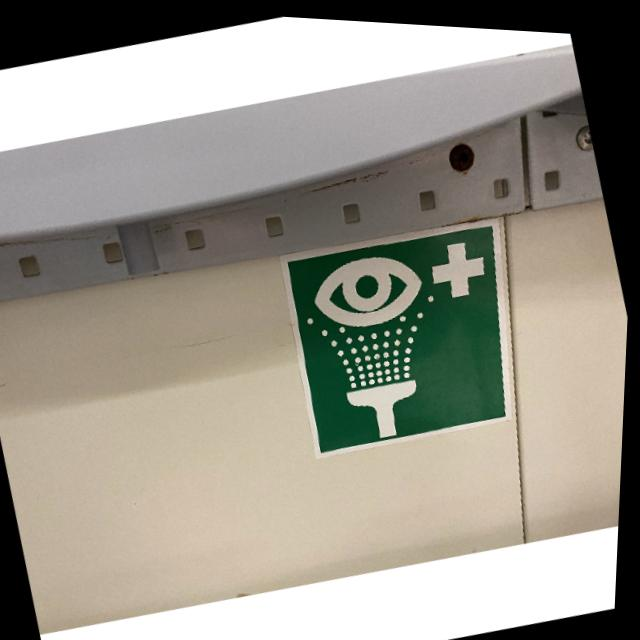eye shower: (270, 197, 550, 463)
